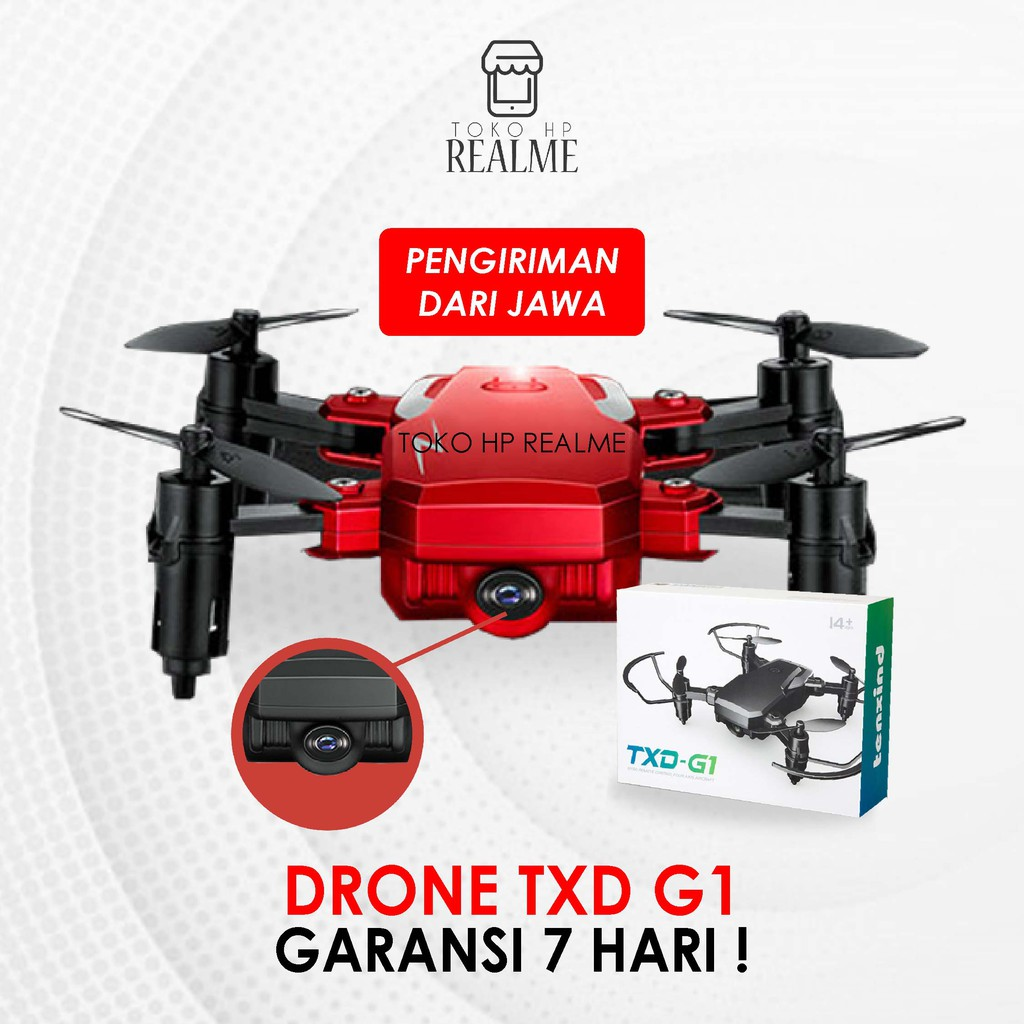drone: (40, 300, 979, 706), (620, 615, 862, 789)
